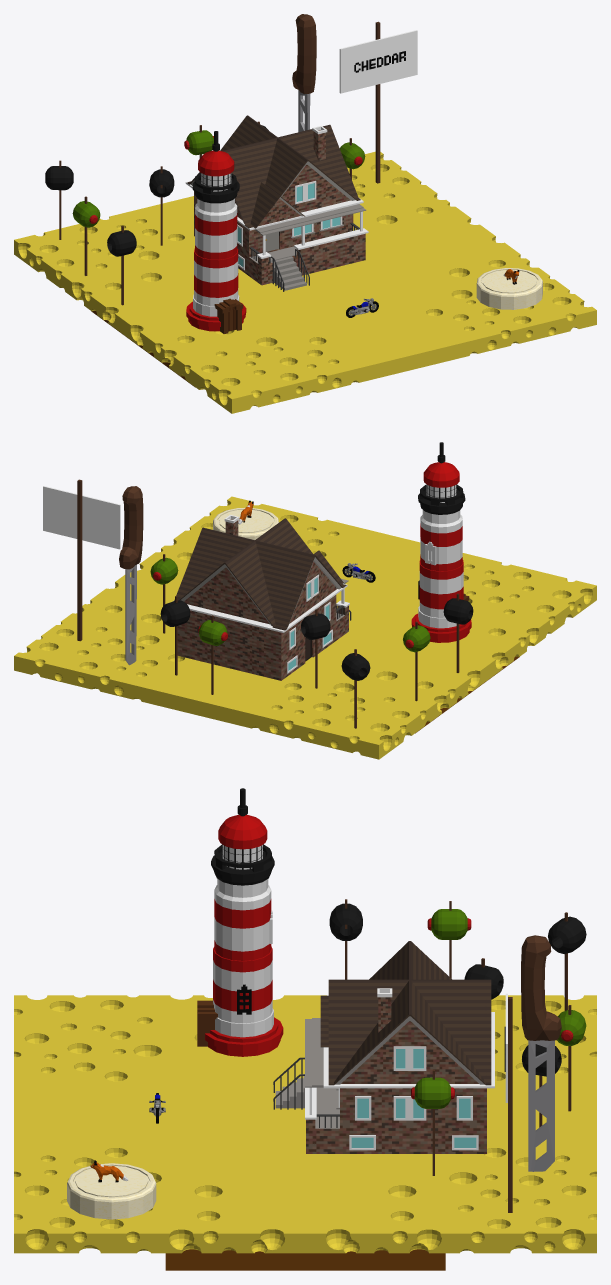
3 renders of one model, top to bottom at view 1: azimuth 30°, elevation 25°; view 2: azimuth 150°, elevation 25°; view 3: azimuth 270°, elevation 25°, orthographic. The views are drawn at different scales.
Visible parts, largest first — view 1: Cube.022, Cube.117, OBJRANDOM_LIGHTHOUSE, Cube.023, Cylinder.016, Cube.024, Sphere.017, Sphere.016, Sphere.018, Sphere.020, Sphere.022, Sphere.019; view 2: Cube.022, Cube.117, OBJRANDOM_LIGHTHOUSE, Cube.023, Cube.024, Cylinder.016, Sphere.017, Sphere.020, Sphere.021, Sphere.016, Sphere.022, Sphere.018 (+1 smaller); view 3: Cube.022, Cube.117, OBJRANDOM_LIGHTHOUSE, Cube.024, UNDERGROUND_ART_PIECE_VAN_GOGH, Cylinder.016, Cube.023, Sphere.019, Sphere.016, Sphere.018, Sphere.017, Sphere.022 (+2 smaller).
Part boxes in pixels (box(x1,y1,x2,y2)): Cube.022: box(14, 151, 596, 413); Cube.117: box(185, 115, 368, 291); OBJRANDOM_LIGHTHOUSE: box(186, 131, 246, 333); Cube.023: box(339, 21, 417, 183); Cylinder.016: box(476, 268, 542, 309); Cube.024: box(292, 14, 316, 132); Sphere.017: box(107, 225, 136, 305); Sphere.016: box(45, 160, 73, 239); Sphere.018: box(72, 196, 100, 275); Sphere.020: box(149, 166, 174, 245); Sphere.022: box(184, 125, 213, 158); Sphere.019: box(339, 138, 365, 179); Cube.022: box(14, 496, 596, 759); Cube.117: box(173, 515, 351, 680); OBJRANDOM_LIGHTHOUSE: box(411, 442, 471, 642); Cube.023: box(43, 479, 120, 641); Cube.024: box(119, 486, 143, 665); Cylinder.016: box(213, 507, 278, 539); Sphere.017: box(443, 593, 473, 672); Sphere.020: box(301, 609, 330, 688); Sphere.021: box(160, 596, 190, 675); Sphere.016: box(341, 649, 370, 728); Sphere.022: box(198, 615, 227, 694); Sphere.018: box(403, 621, 430, 701); Cube.022: box(14, 995, 596, 1253); Cube.117: box(273, 941, 494, 1153); OBJRANDOM_LIGHTHOUSE: box(197, 788, 283, 1056); Cube.024: box(521, 935, 561, 1171); UNDERGROUND_ART_PIECE_VAN_GOGH: box(165, 1249, 445, 1270); Cylinder.016: box(67, 1163, 156, 1219); Cube.023: box(504, 993, 512, 1212); Sphere.019: box(411, 1069, 454, 1175); Sphere.016: box(548, 912, 586, 1010); Sphere.018: box(427, 901, 471, 978); Sphere.017: box(329, 899, 362, 979); Sphere.022: box(557, 1005, 586, 1111).
Size of the model in its own units: 3917 by 2257 by 4000.
Materials: 37 (5 with a texture image).
